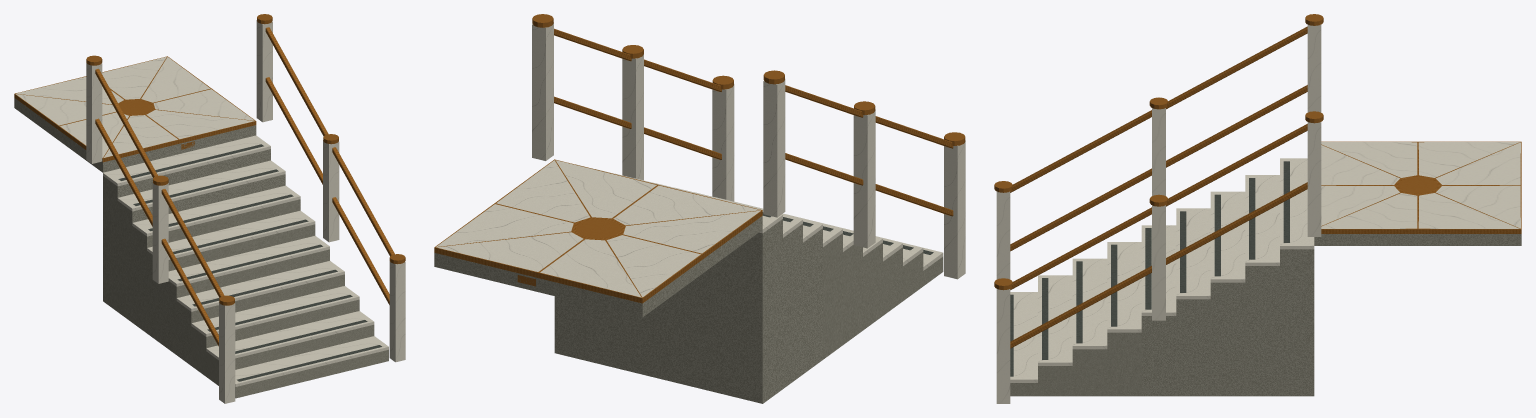
Rendered from assembly.glb.
3 views of the same model, side by side, from view 1: azimuth 30°, elevation 25°; view 2: azimuth 150°, elevation 25°; view 3: azimuth 270°, elevation 25° (orthographic). The views are drawn at different scales.
Visible parts, largest first — view 1: Stone stair tread and riser.008, Stone stair tread and riser.007, Stone stair tread and riser.006, Stone stair tread and riser.004, Stone stair tread and riser.005, Stone stair tread and riser.003, Stone floor substrate, Replaceable marble tread, Replaceable marble tread.008, Replaceable marble tread.004, Replaceable marble tread.003, Stone stair tread and riser.002 (+36 smaller); view 2: Stone stair tread and riser.008, Stone floor substrate, Recessed continuous bronze inlay bed, Outside-route guard post.002, Stone stair tread and riser.007, Outside-route guard post.001, Outside-route guard post.005, Replaceable flush radial marble floor sector, Replaceable flush radial marble floor sector.004, Replaceable flush radial marble floor sector.003, Replaceable flush radial marble floor sector.007, Replaceable flush radial marble floor sector.001 (+17 smaller); view 3: Stone stair tread and riser.008, Stone stair tread and riser.007, Stone stair tread and riser.006, Stone stair tread and riser.005, Stone stair tread and riser.004, Replaceable marble tread.002, Replaceable marble tread.006, Replaceable marble tread.005, Replaceable marble tread.003, Replaceable marble tread.007, Replaceable marble tread.001, Stone floor substrate (+34 smaller).
Part boxes in pixels (x1,y1,x2,y2): Stone stair tread and riser.008: [103, 149, 270, 311]; Stone stair tread and riser.007: [117, 174, 285, 322]; Stone stair tread and riser.006: [132, 199, 300, 333]; Stone stair tread and riser.004: [162, 249, 329, 354]; Stone stair tread and riser.005: [147, 224, 315, 344]; Stone stair tread and riser.003: [176, 274, 344, 365]; Stone floor substrate: [14, 98, 256, 172]; Replaceable marble tread: [235, 336, 388, 386]; Replaceable marble tread.008: [103, 135, 270, 186]; Replaceable marble tread.004: [168, 235, 329, 286]; Replaceable marble tread.003: [176, 261, 344, 311]; Stone stair tread and riser.002: [191, 299, 359, 376]; Stone stair tread and riser.008: [554, 219, 782, 403]; Stone floor substrate: [434, 216, 762, 317]; Recessed continuous bronze inlay bed: [434, 159, 762, 303]; Outside-route guard post.002: [763, 79, 785, 217]; Stone stair tread and riser.007: [783, 223, 802, 388]; Outside-route guard post.001: [853, 109, 875, 248]; Outside-route guard post.005: [532, 22, 553, 160]; Replaceable flush radial marble floor sector: [613, 185, 760, 225]; Replaceable flush radial marble floor sector.004: [436, 232, 583, 271]; Replaceable flush radial marble floor sector.003: [436, 204, 573, 246]; Replaceable flush radial marble floor sector.007: [623, 210, 760, 253]; Replaceable flush radial marble floor sector.001: [555, 160, 656, 218]; Stone stair tread and riser.008: [1280, 249, 1314, 396]; Stone stair tread and riser.007: [1245, 266, 1279, 396]; Stone stair tread and riser.006: [1210, 282, 1245, 396]; Stone stair tread and riser.005: [1176, 299, 1210, 396]; Stone stair tread and riser.004: [1141, 316, 1176, 396]; Replaceable marble tread.002: [1072, 258, 1107, 349]; Replaceable marble tread.006: [1210, 191, 1245, 282]; Replaceable marble tread.005: [1176, 208, 1210, 299]; Replaceable marble tread.003: [1107, 242, 1141, 332]; Replaceable marble tread.007: [1245, 175, 1279, 265]; Replaceable marble tread.001: [1038, 275, 1072, 365]; Stone floor substrate: [1314, 234, 1521, 245].
Bounding box in the file's own units: 2.16 × 2.74 × 4.58.
7 materials, 7 textured.
